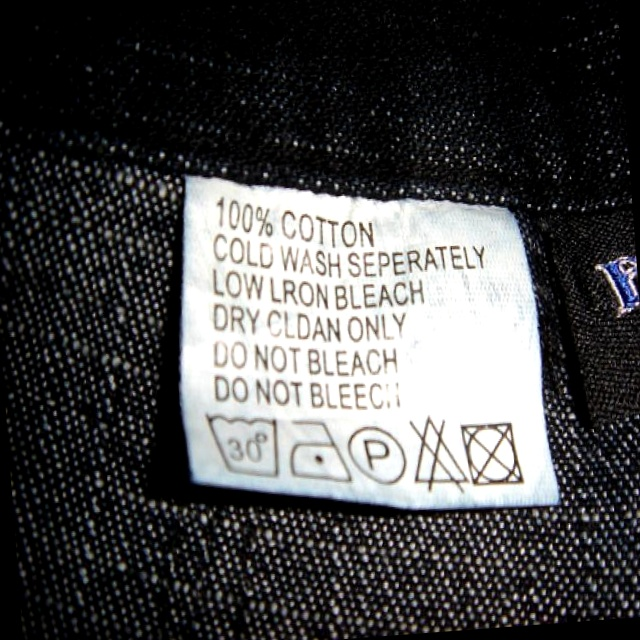30C: (207, 408, 285, 483)
DN_bleach: (410, 413, 467, 495)
DN_tumble_dry: (462, 414, 526, 493)
dry_clean_any_solvent_except_trichloroethylene: (346, 421, 409, 486)
iron_low: (285, 410, 351, 486)
